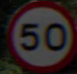Speed limit: (4, 2, 72, 67)
